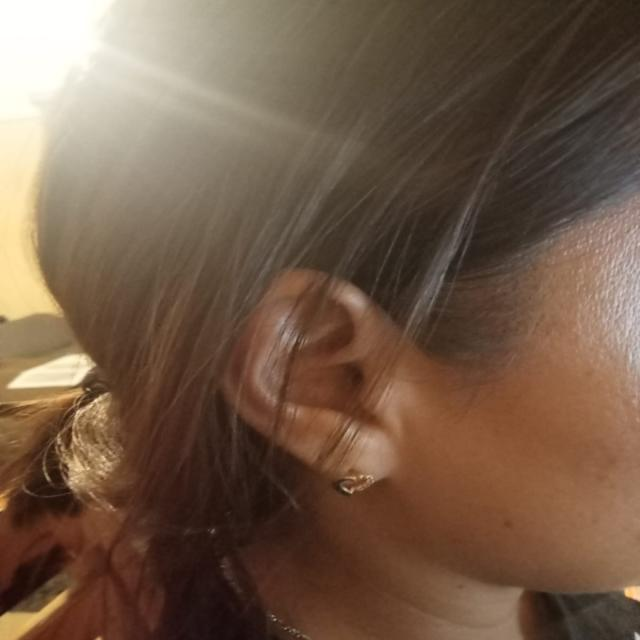ear: (223, 269, 402, 482)
